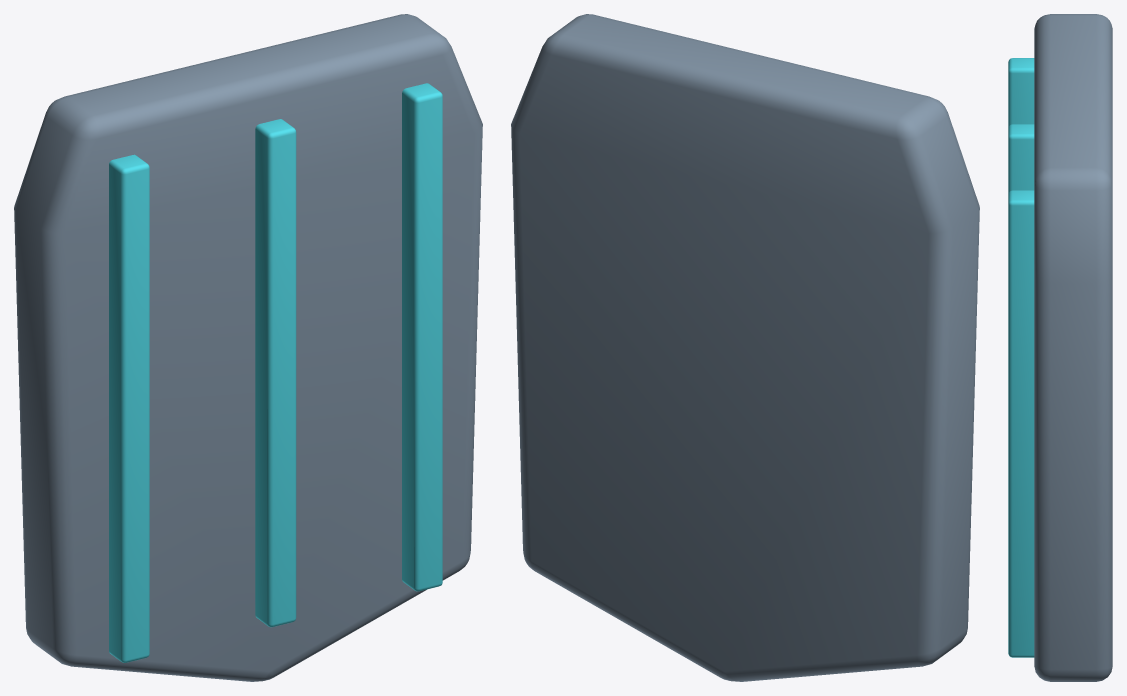
The model's file is shield_v6.glb.
3 views of the same model, side by side, from view 1: azimuth 30°, elevation 25°; view 2: azimuth 150°, elevation 25°; view 3: azimuth 270°, elevation 25° (orthographic). The views are drawn at different scales.
Visible parts, largest first — view 1: PAVISE_SHIELD_PRIMARY, PAVISE_RIB_ACCENT.001, PAVISE_RIB_ACCENT.002, PAVISE_RIB_ACCENT; view 2: PAVISE_SHIELD_PRIMARY; view 3: PAVISE_SHIELD_PRIMARY, PAVISE_RIB_ACCENT.002, PAVISE_RIB_ACCENT, PAVISE_RIB_ACCENT.001.
Part boxes in pixels (x1=…): PAVISE_SHIELD_PRIMARY: x1=14, y1=14, x2=482, y2=681; PAVISE_RIB_ACCENT.001: x1=255, y1=119, x2=296, y2=627; PAVISE_RIB_ACCENT.002: x1=402, y1=83, x2=442, y2=591; PAVISE_RIB_ACCENT: x1=109, y1=154, x2=149, y2=662; PAVISE_SHIELD_PRIMARY: x1=511, y1=14, x2=979, y2=681; PAVISE_SHIELD_PRIMARY: x1=1034, y1=14, x2=1112, y2=681; PAVISE_RIB_ACCENT.002: x1=1008, y1=190, x2=1034, y2=657; PAVISE_RIB_ACCENT: x1=1008, y1=58, x2=1034, y2=127; PAVISE_RIB_ACCENT.001: x1=1008, y1=124, x2=1034, y2=193.
Bounding box in the file's own units: 2.16 × 2.84 × 0.48.
